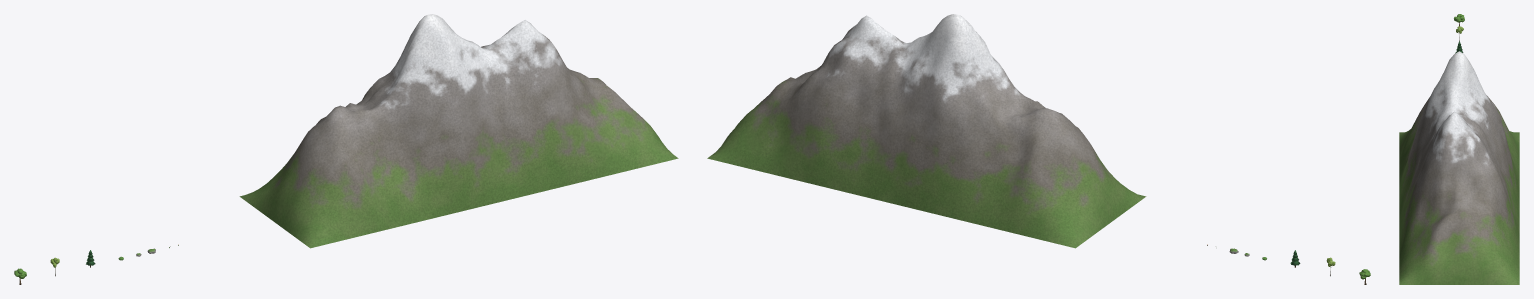
Rendered from MeadowProps.fbx.
3 views of the same model, side by side, from view 1: azimuth 30°, elevation 25°; view 2: azimuth 150°, elevation 25°; view 3: azimuth 270°, elevation 25° (orthographic). The views are drawn at different scales.
Visible parts, largest first — view 1: Mountain_Range; view 2: Mountain_Range; view 3: Mountain_Range.
Part boxes in pixels (x1=…): Mountain_Range: x1=239, y1=14, x2=678, y2=248; Mountain_Range: x1=707, y1=14, x2=1146, y2=248; Mountain_Range: x1=1399, y1=51, x2=1519, y2=284.
Size of the model in its own units: 716 by 186 by 140.
Materials: 14 (14 with a texture image).
